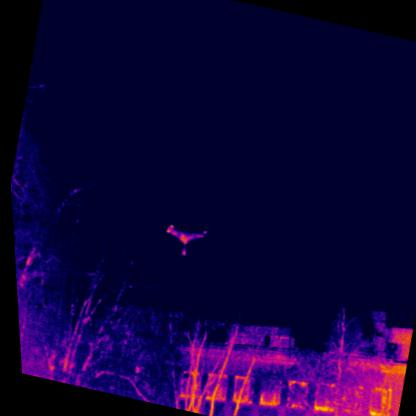drone: (158, 220, 207, 260)
